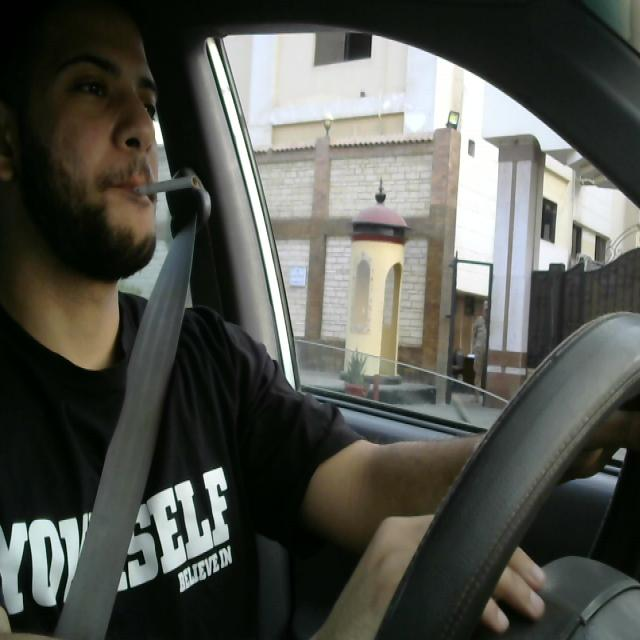smoking: (126, 172, 206, 196)
